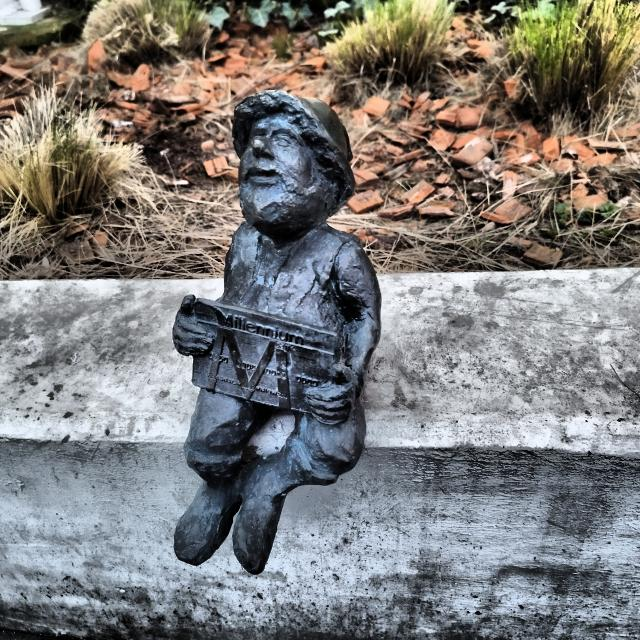Krasnal_Millenniowski: (173, 89, 381, 577)
